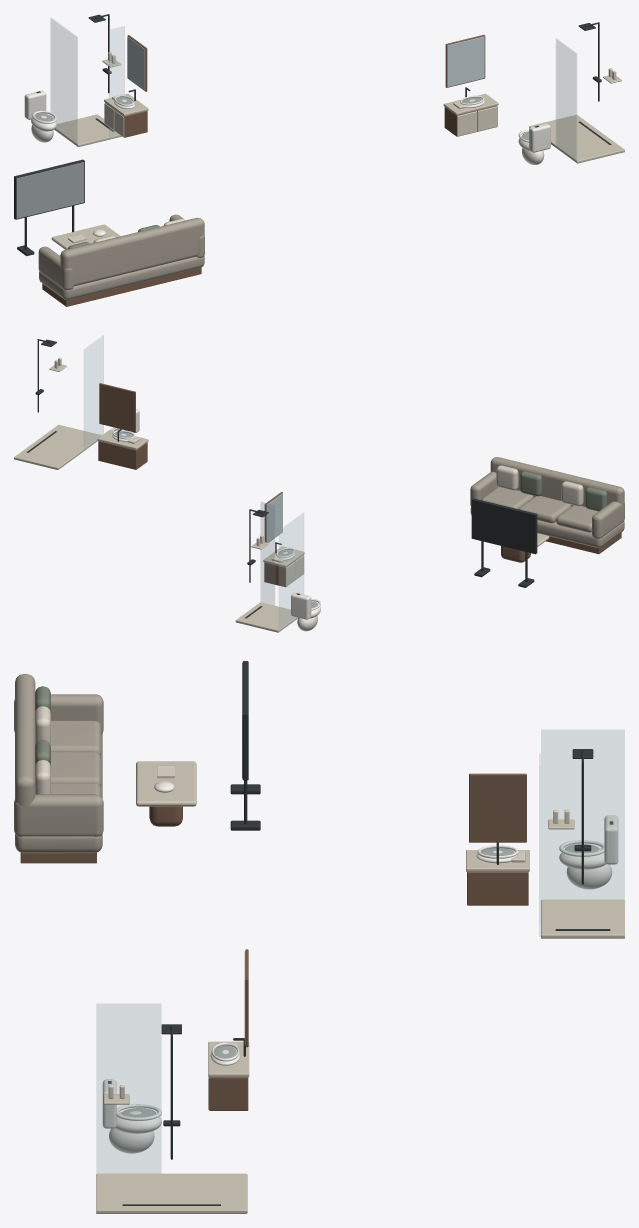
Rendered from furnishings.glb.
The picture shows the model from 3 angles, top to bottom: view 1: azimuth 30°, elevation 25°; view 2: azimuth 150°, elevation 25°; view 3: azimuth 270°, elevation 25°; orthographic projection. The views are drawn at different scales.
Parts seen in each view (by area): view 1: Backrest, Shower side glass, TV screen, Shower glass screen.001, Shower tray.001, Upholstered base, Mirror surface.001, Shower tray, Shower glass screen, Sofa plinth, Armrest, Mirror surface (+8 smaller); view 2: TV frame, Shower side glass, Shower tray.001, Backrest, Shower glass screen.001, Mirror frame.001, Shower glass screen, Shower tray, Upholstered base, Floating vanity.001, Armrest, Seat cushion.001 (+11 smaller); view 3: Shower side glass, Shower glass screen.001, Shower tray.001, Mirror frame, Armrest.001, Shower tray, Backrest, Stone tabletop, Floating vanity, Upholstered base, Seat cushion, Seat cushion.001 (+8 smaller).
Part boxes in pixels (left/top/right/bottom): Backrest: left=60, top=217, right=204, bottom=286; Shower side glass: left=50, top=18, right=77, bottom=145; TV screen: left=16, top=162, right=84, bottom=218; Shower glass screen.001: left=556, top=38, right=576, bottom=161; Shower tray.001: left=529, top=114, right=624, bottom=163; Upholstered base: left=39, top=256, right=204, bottom=299; Mirror surface.001: left=447, top=36, right=484, bottom=87; Shower tray: left=54, top=114, right=121, bottom=146; Shower glass screen: left=109, top=26, right=124, bottom=138; Sofa plinth: left=42, top=267, right=201, bottom=306; Armrest: left=38, top=246, right=73, bottom=290; Mirror surface: left=127, top=36, right=145, bottom=90; TV frame: left=471, top=498, right=537, bottom=554; Shower side glass: left=279, top=512, right=303, bottom=631; Shower tray.001: left=14, top=424, right=101, bottom=469; Backrest: left=490, top=457, right=624, bottom=518; Shower glass screen.001: left=84, top=335, right=103, bottom=449; Mirror frame.001: left=99, top=383, right=135, bottom=432; Shower glass screen: left=260, top=502, right=274, bottom=605; Shower tray: left=235, top=602, right=297, bottom=632; Upholstered base: left=470, top=507, right=624, bottom=547; Floating vanity.001: left=98, top=441, right=147, bottom=469; Armrest: left=592, top=501, right=624, bottom=538; Seat cushion.001: left=519, top=496, right=571, bottom=523; Shower side glass: left=541, top=729, right=624, bottom=899; Shower glass screen.001: left=96, top=1003, right=161, bottom=1173; Shower tray.001: left=96, top=1173, right=247, bottom=1213; Mirror frame: left=469, top=773, right=526, bottom=842; Armrest.001: left=14, top=794, right=103, bottom=836; Shower tray: left=541, top=899, right=624, bottom=938; Backrest: left=15, top=674, right=35, bottom=822; Stone tabletop: left=136, top=761, right=196, bottom=806; Floating vanity: left=467, top=872, right=528, bottom=905; Upholstered base: left=15, top=734, right=102, bottom=853; Seat cushion: left=51, top=720, right=101, bottom=755; Seat cushion.001: left=51, top=751, right=101, bottom=786.
Bounding box in the file's own units: 11.38 × 2.09 × 6.54.
